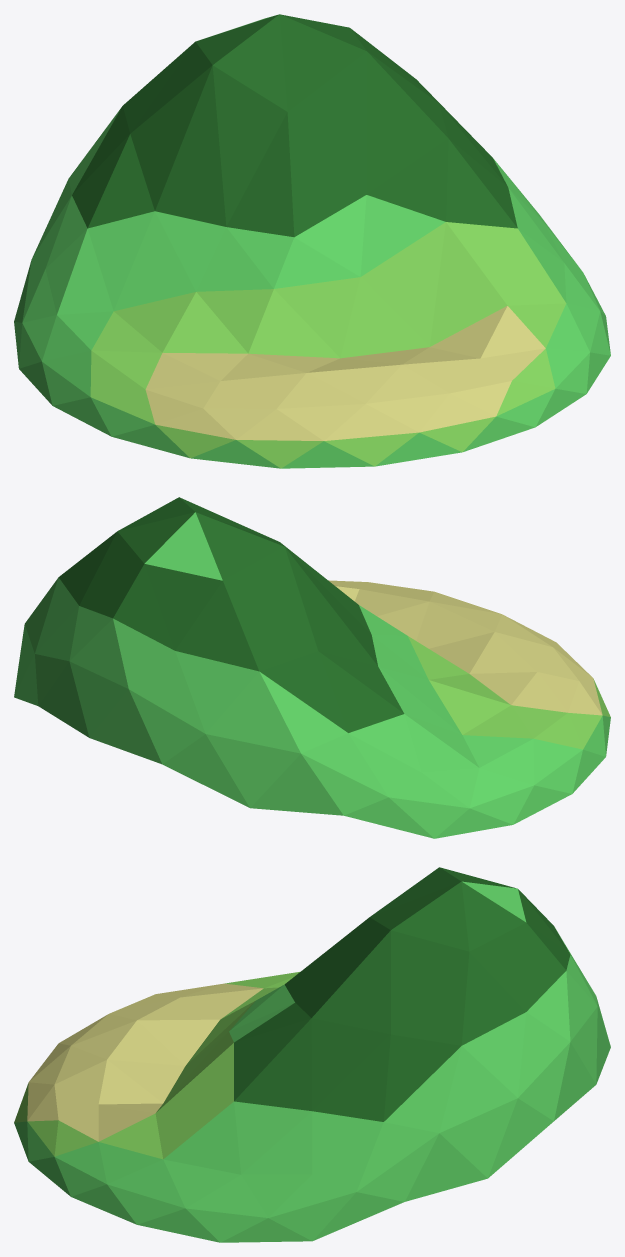
File: Island.fbx
3 renders of one model, top to bottom at view 1: azimuth 30°, elevation 25°; view 2: azimuth 150°, elevation 25°; view 3: azimuth 270°, elevation 25°, orthographic.
Visible parts, largest first — view 1: Island; view 2: Island; view 3: Island.
Part boxes in pixels (bbox=[...]): Island: bbox=[14, 14, 610, 468]; Island: bbox=[14, 497, 610, 838]; Island: bbox=[14, 867, 610, 1242].
Bounding box in the file's own units: 1139 × 551 × 1139.
